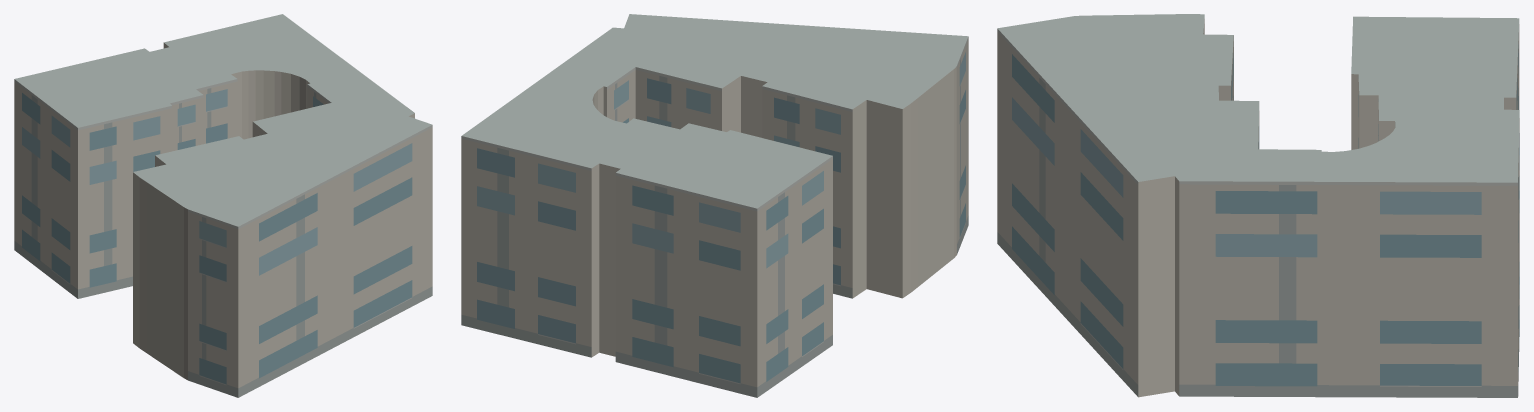
The model's file is survey-upis-32838251.glb.
3 renders of one model, left to right at view 1: azimuth 30°, elevation 25°; view 2: azimuth 150°, elevation 25°; view 3: azimuth 270°, elevation 25°, orthographic. The views are drawn at different scales.
Parts seen in each view (by area): view 1: survey-upis-32838251.tmp; view 2: survey-upis-32838251.tmp; view 3: survey-upis-32838251.tmp.
Boxes of the visible parts, <box> form: survey-upis-32838251.tmp: <box>14,14,432,397</box>; survey-upis-32838251.tmp: <box>461,14,968,397</box>; survey-upis-32838251.tmp: <box>997,14,1519,397</box>.
Bounding box in the file's own units: 27.64 × 16.45 × 36.18.
